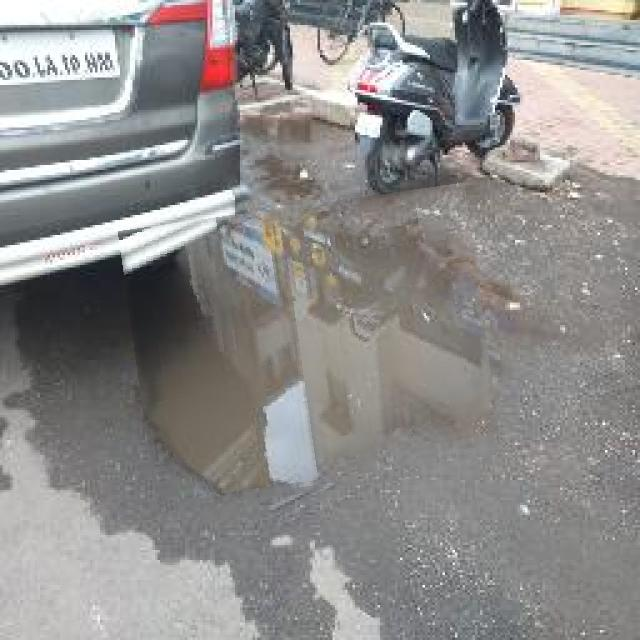puddle: (128, 195, 496, 504)
